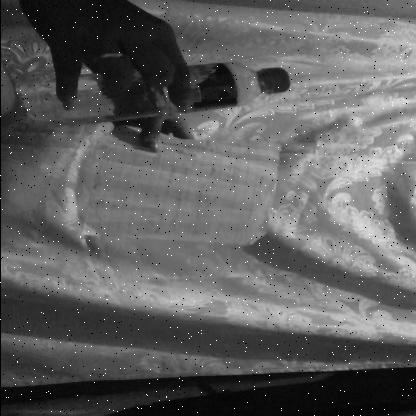Plastic Bottle: (8, 48, 322, 137)
